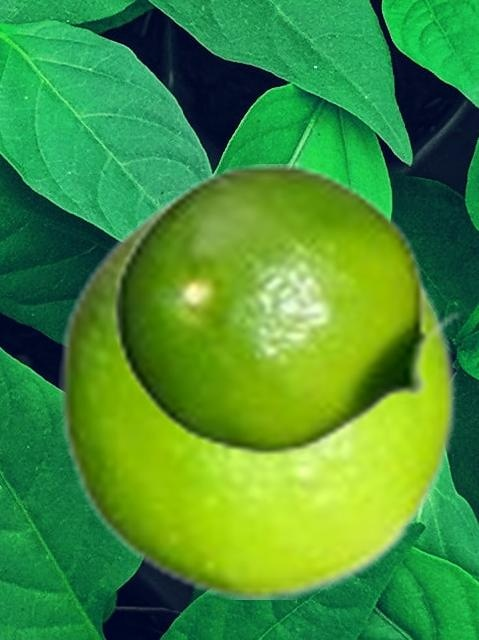calamansi: (58, 182, 458, 598), (111, 164, 463, 456)
